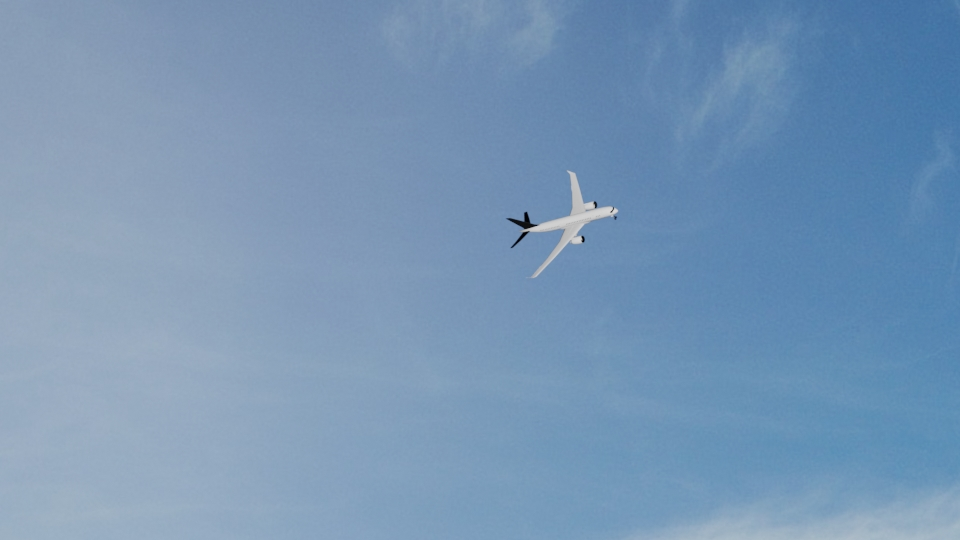plane: (507, 168, 619, 281)
